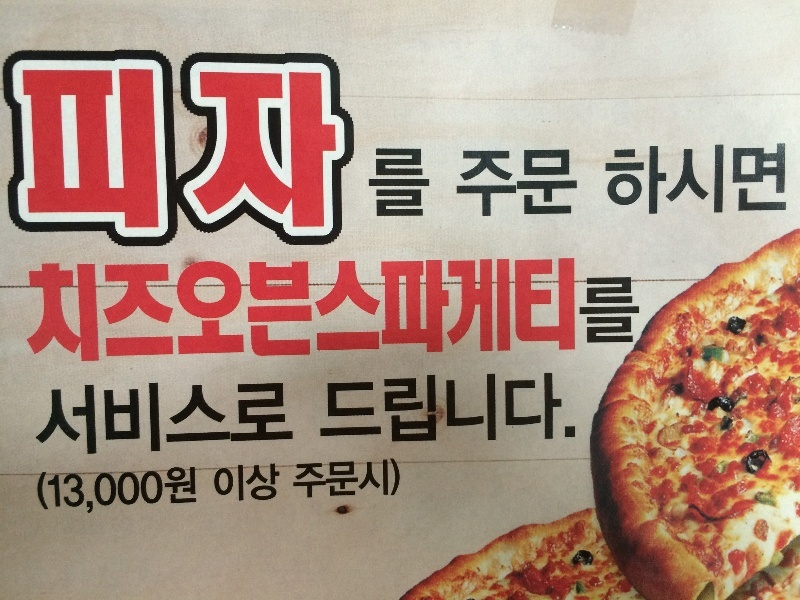text: (1, 47, 16, 253), (17, 47, 32, 253), (33, 47, 48, 253), (49, 47, 64, 253), (65, 47, 80, 253), (81, 47, 96, 253), (97, 47, 112, 253), (113, 47, 128, 253), (129, 47, 144, 253), (145, 47, 160, 253), (161, 47, 176, 253), (177, 47, 192, 253), (193, 47, 208, 253), (209, 47, 224, 253), (225, 47, 240, 253), (241, 47, 256, 253), (257, 47, 272, 253), (273, 47, 288, 253), (289, 47, 304, 253), (305, 47, 320, 253), (321, 47, 336, 253), (337, 47, 352, 253), (33, 256, 48, 364), (49, 256, 64, 364), (65, 256, 80, 364), (81, 256, 96, 364), (97, 256, 112, 364), (113, 256, 128, 364), (129, 256, 144, 364), (145, 256, 160, 364), (161, 256, 176, 364), (177, 256, 192, 364), (193, 256, 208, 364), (209, 256, 224, 364), (225, 256, 240, 364), (241, 256, 256, 364), (257, 256, 272, 364), (273, 256, 288, 364), (289, 256, 304, 364), (305, 256, 320, 364), (321, 256, 336, 364), (337, 256, 352, 364), (353, 256, 368, 364), (369, 256, 384, 364), (385, 256, 400, 364), (401, 256, 416, 364), (417, 256, 432, 364), (433, 256, 448, 364), (449, 256, 464, 364), (465, 256, 480, 364), (481, 256, 496, 364), (497, 256, 512, 364), (513, 256, 528, 364), (529, 256, 544, 364), (545, 256, 560, 364), (561, 256, 576, 364), (577, 256, 592, 364), (593, 256, 608, 364), (609, 256, 624, 364), (625, 256, 640, 364), (49, 378, 64, 462), (65, 378, 80, 462), (81, 378, 96, 462), (97, 378, 112, 462), (113, 378, 128, 462), (129, 378, 144, 462), (145, 378, 160, 462), (161, 378, 176, 462), (177, 378, 192, 462), (193, 378, 208, 462), (209, 378, 224, 462), (225, 378, 240, 462), (241, 378, 256, 462), (257, 378, 272, 462), (273, 378, 288, 462), (337, 366, 352, 448), (353, 366, 368, 448), (369, 366, 384, 448), (385, 366, 400, 448), (401, 366, 416, 448), (417, 366, 432, 448), (433, 366, 448, 448), (449, 366, 464, 448), (465, 366, 480, 448), (481, 366, 496, 448), (497, 366, 512, 448), (513, 366, 528, 448), (529, 366, 544, 448), (545, 366, 560, 448), (561, 366, 576, 448), (417, 146, 433, 221), (609, 140, 624, 217), (625, 140, 640, 217), (641, 140, 656, 217), (657, 140, 672, 217), (673, 140, 688, 217), (689, 140, 704, 217), (705, 140, 720, 217), (721, 140, 736, 217), (737, 140, 752, 217), (753, 140, 768, 217), (769, 140, 784, 217), (369, 146, 384, 221), (385, 146, 400, 221), (401, 146, 416, 221), (465, 148, 480, 218), (481, 148, 496, 218), (497, 148, 512, 218), (513, 148, 528, 218), (529, 148, 544, 218), (545, 148, 560, 218), (561, 148, 576, 218), (326, 366, 336, 448), (49, 465, 64, 517), (65, 465, 80, 517), (81, 465, 96, 517), (97, 465, 112, 517), (113, 465, 128, 517), (129, 465, 144, 517), (145, 465, 160, 517), (161, 465, 176, 517), (177, 465, 192, 517), (385, 457, 401, 504), (305, 457, 320, 504), (321, 457, 336, 504), (337, 457, 352, 504), (353, 457, 368, 504), (369, 457, 384, 504), (225, 461, 240, 507), (241, 461, 256, 507), (257, 461, 272, 507), (35, 465, 48, 517), (289, 378, 297, 462), (353, 47, 356, 253), (292, 457, 304, 504), (213, 461, 224, 507), (577, 366, 583, 448), (28, 256, 32, 364), (273, 461, 282, 507), (459, 148, 464, 218), (44, 378, 48, 462), (193, 465, 199, 517), (605, 140, 608, 217), (785, 140, 788, 217), (641, 256, 643, 364), (577, 148, 579, 218), (367, 146, 368, 221)
